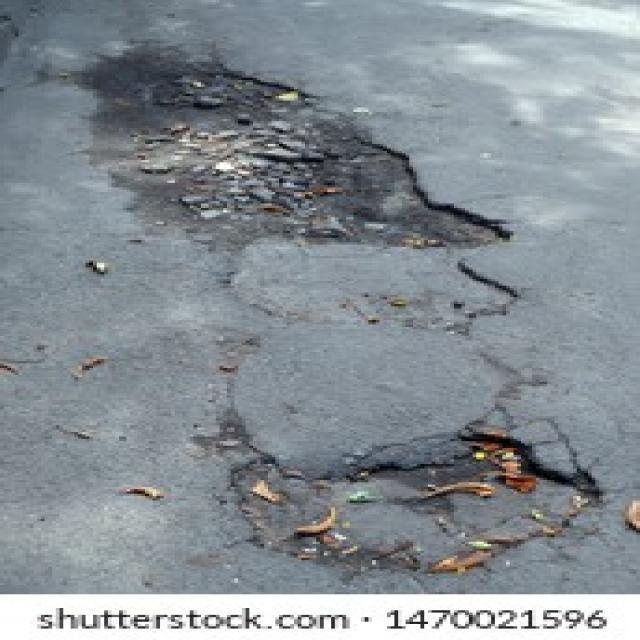Pothole: (100, 66, 521, 247), (227, 425, 603, 576), (219, 238, 521, 332)
